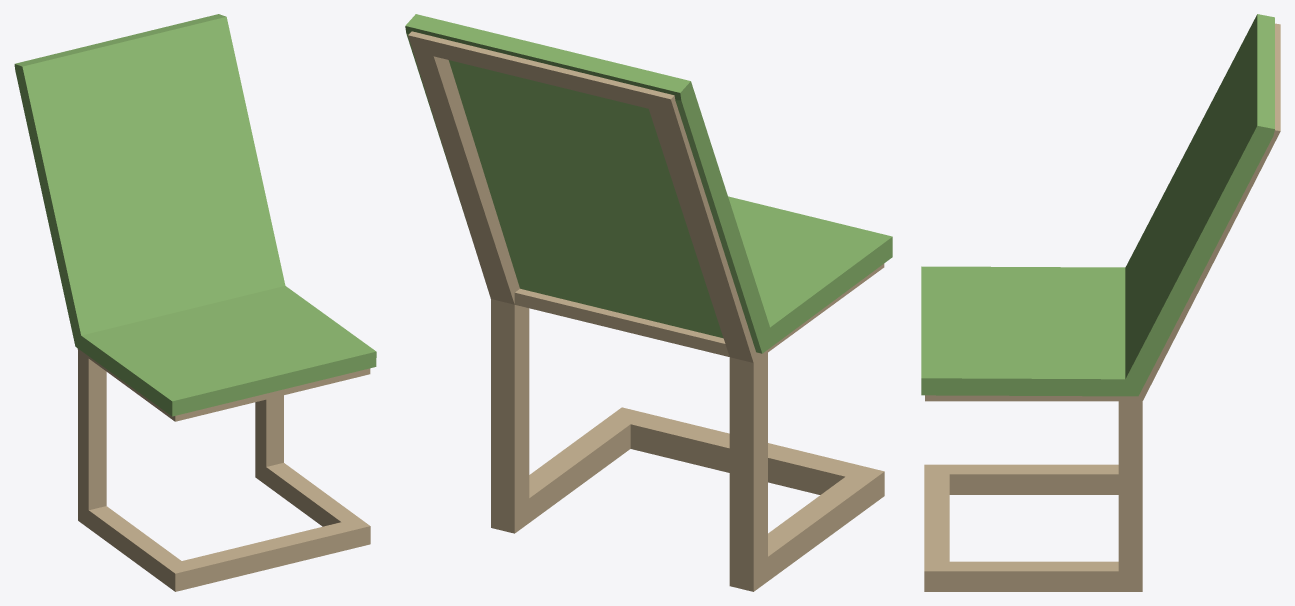
File: chair2.fbx
The picture shows the model from 3 angles, left to right: view 1: azimuth 30°, elevation 25°; view 2: azimuth 150°, elevation 25°; view 3: azimuth 270°, elevation 25°; orthographic projection. The views are drawn at different scales.
Parts seen in each view (by area): view 1: chair2; view 2: chair2; view 3: chair2.
Boxes of the visible parts, x1=… form: chair2: x1=14, y1=14, x2=376, y2=591; chair2: x1=405, y1=14, x2=892, y2=591; chair2: x1=921, y1=14, x2=1280, y2=591.
Bounding box in the file's own units: 29.13 × 56.95 × 39.59.
Materials: 1 (1 with a texture image).
